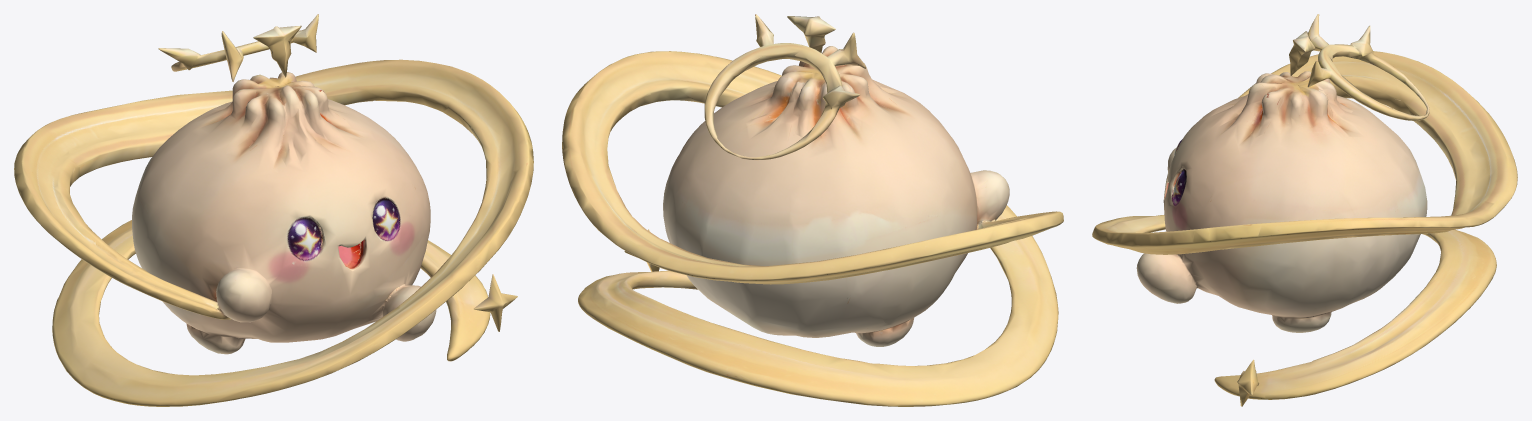
The model's file is celestial_dumpling_core.glb.
3 renders of one model, left to right at view 1: azimuth 30°, elevation 25°; view 2: azimuth 150°, elevation 25°; view 3: azimuth 270°, elevation 25°, orthographic. The views are drawn at different scales.
Visible parts, largest first — view 1: Mesh_0; view 2: Mesh_0; view 3: Mesh_0.
Part boxes in pixels (x1,y1,x2,y2): Mesh_0: (14,14,533,406); Mesh_0: (562,14,1063,406); Mesh_0: (1092,14,1517,406).
Bounding box in the file's own units: 2 × 1.41 × 1.84.
Materials: 1 (1 with a texture image).
